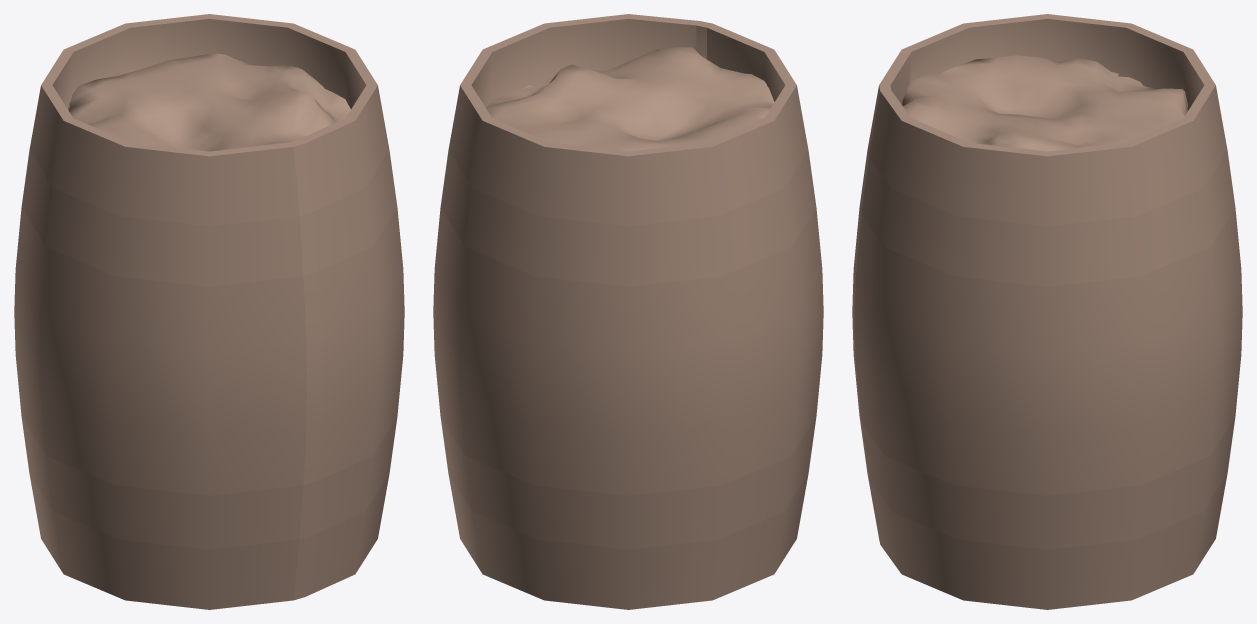
File: barrel_plus_coins_low.fbx
3 views of the same model, side by side, from view 1: azimuth 30°, elevation 25°; view 2: azimuth 150°, elevation 25°; view 3: azimuth 270°, elevation 25° (orthographic).
Parts seen in each view (by area): view 1: barrel_low; view 2: barrel_low; view 3: barrel_low.
Boxes of the visible parts, x1,y1,x2,y2 form: barrel_low: (14,14,404,609); barrel_low: (433,14,823,609); barrel_low: (852,14,1242,609).
Bounding box in the file's own units: 83.51 × 107 × 83.51.
